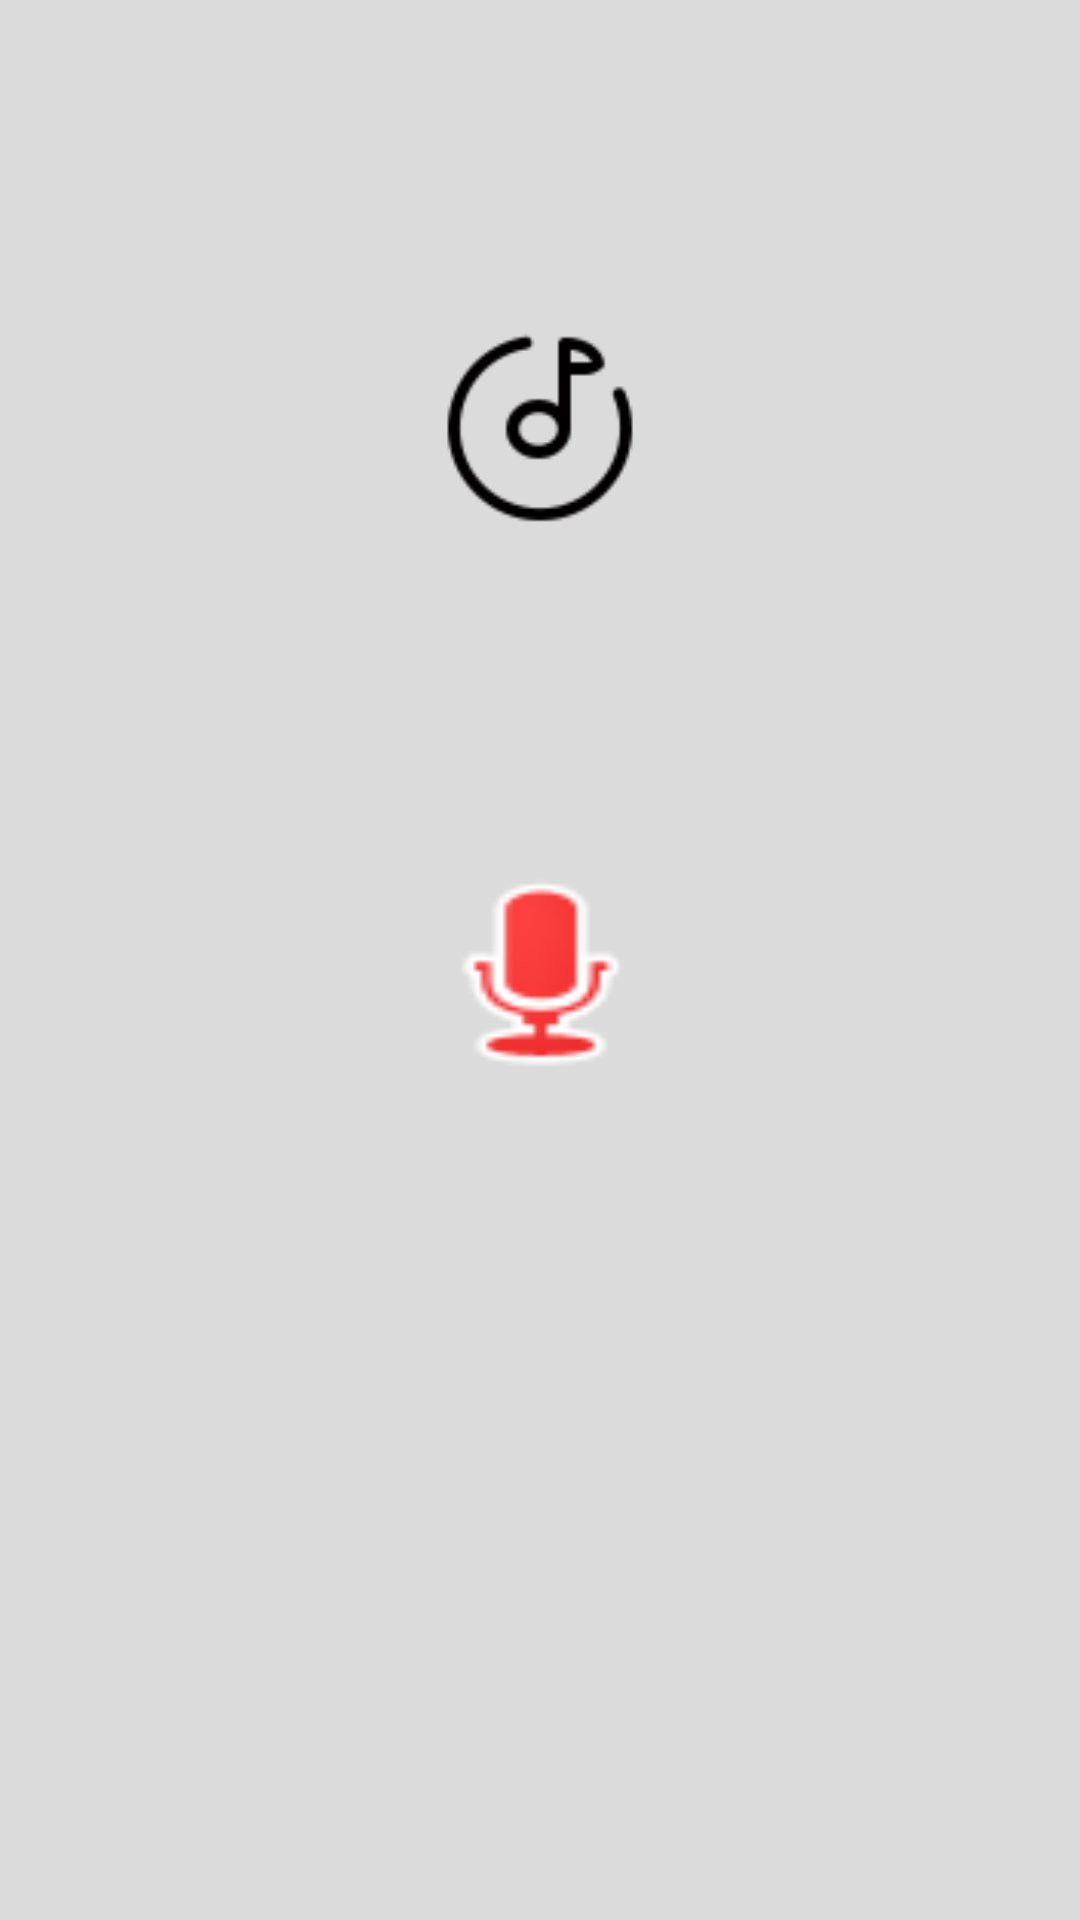

Where icons sit on this 1080w x 1920h app screen, as (x1, y1, x2, y2):
presence audio busy: (466, 885, 617, 1062)
